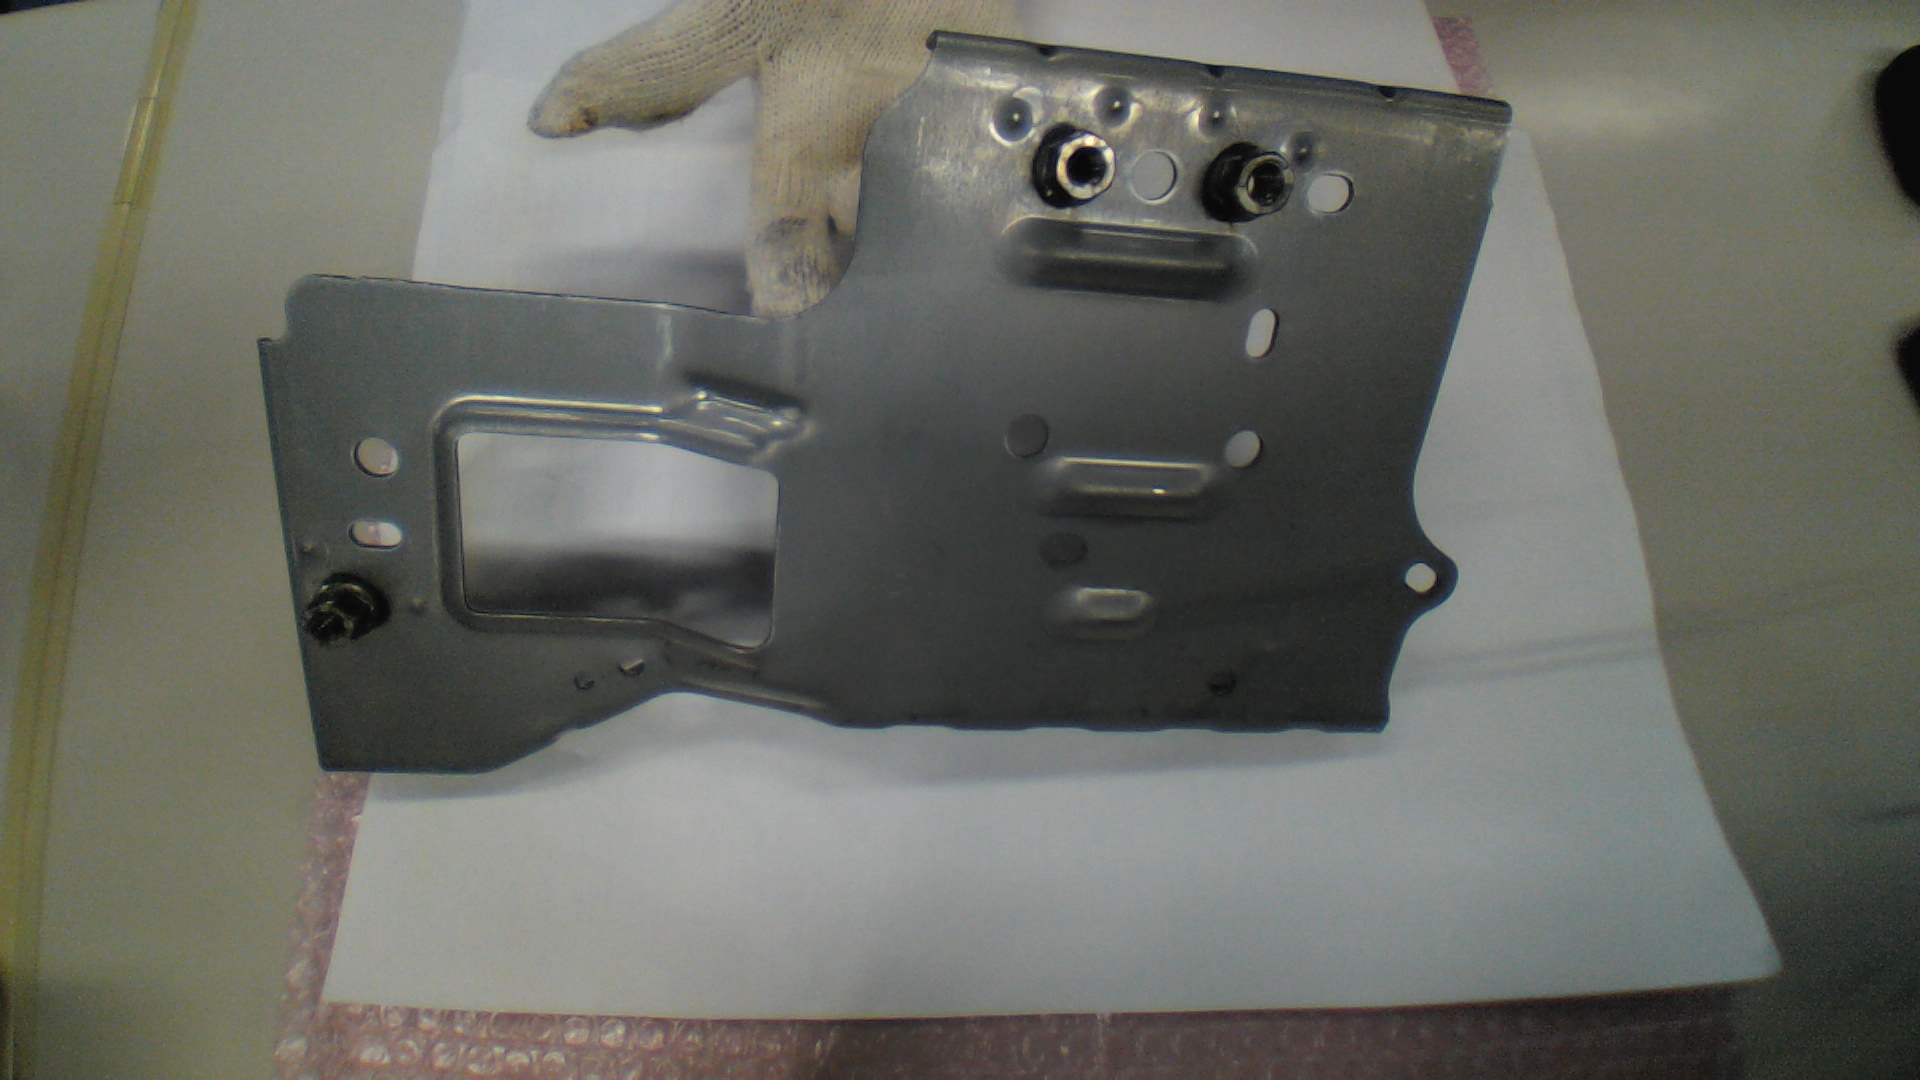dog: (1031, 127, 1114, 208), (301, 572, 389, 649), (1207, 146, 1292, 222)
